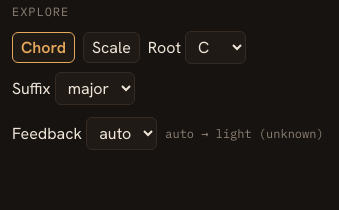
CoachColumn — explore mode (existing ExplorePanel controls) › does NOT render the fretboard strip — that lives in the ZoomPane slot, not the coach column
The image size is (339, 210).
Select "A" in the dropdown with test id "explore-root" at (216, 48), box [185,31,246,64]
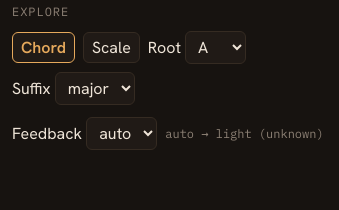
Select "minor" in the dropdown with test id "explore-suffix" at (95, 88), box [55,72,135,105]
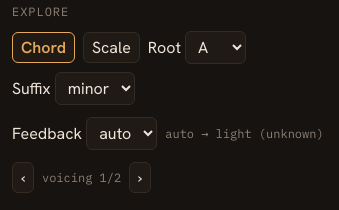
Expected: the text "voicing 1/2" is shown, [42,170,121,185]
